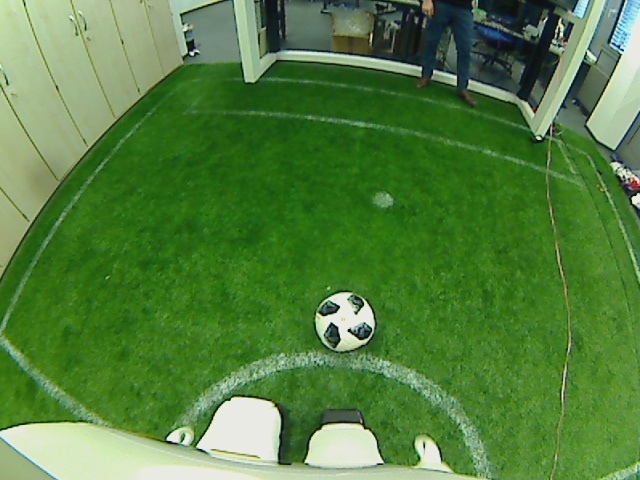ball: (311, 289, 377, 354)
